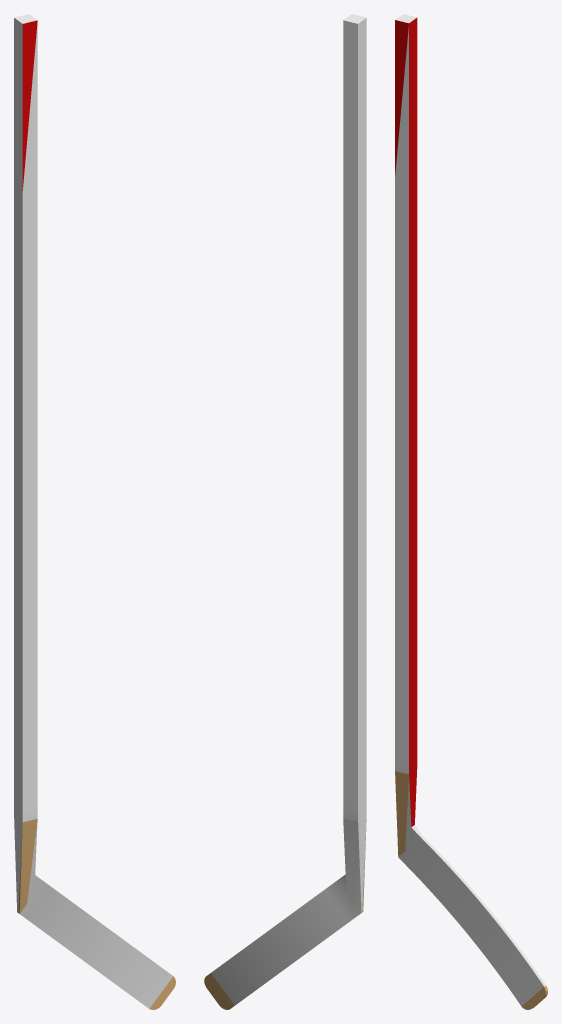
The model's file is hockey_stick_reduced.dae.
The picture shows the model from 3 angles, left to right: view 1: azimuth 30°, elevation 25°; view 2: azimuth 150°, elevation 25°; view 3: azimuth 330°, elevation 25°; orthographic projection. The views are drawn at different scales.
Parts seen in each view (by area): view 1: SketchUp; view 2: SketchUp; view 3: SketchUp.
Boxes of the visible parts, x1,y1,x2,y2 form: SketchUp: (14,14,175,1009); SketchUp: (204,14,366,1009); SketchUp: (395,14,547,1009).
Bounding box in the file's own units: 0.2669 × 0.0285 × 1.66.
